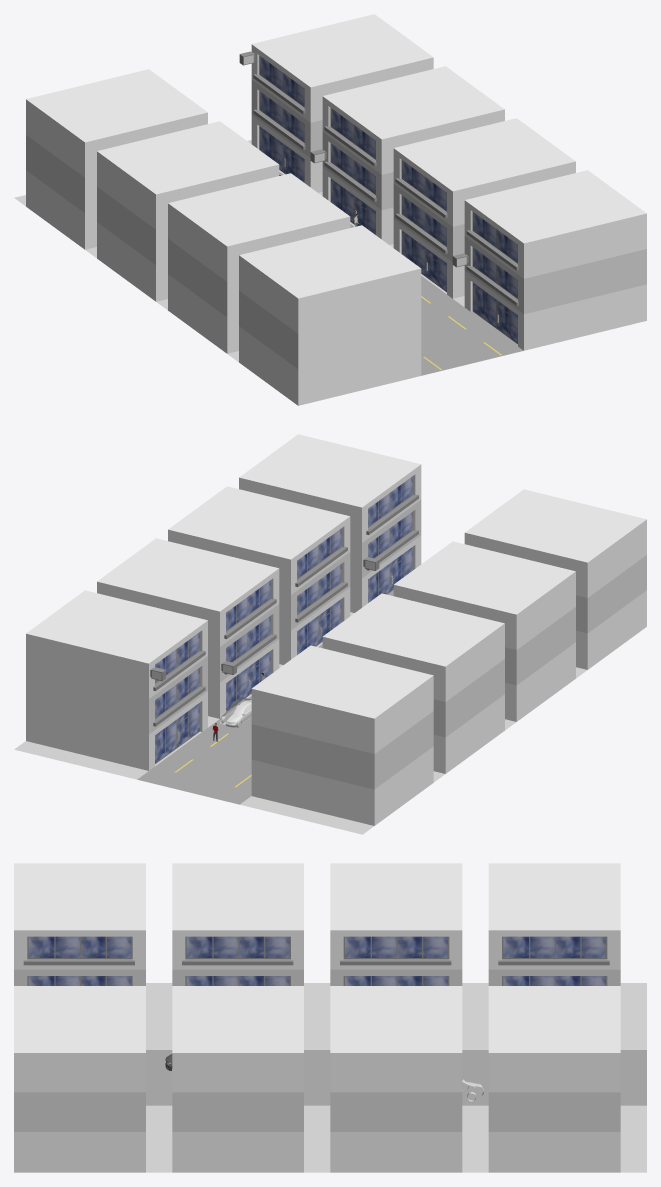
3 views of the same model, one above another, from view 1: azimuth 30°, elevation 25°; view 2: azimuth 150°, elevation 25°; view 3: azimuth 270°, elevation 25° (orthographic). The views are drawn at different scales.
Visible parts, largest first — view 1: Geom3D (×5); view 2: Geom3D (×5); view 3: Geom3D (×5).
Boxes of the visible parts, box(x1,y1,x2,y2) form: Geom3D (×5): box(14, 14, 646, 405); Geom3D (×5): box(14, 434, 646, 834); Geom3D (×5): box(14, 863, 646, 1172).
Size of the model in its own units: 34 by 10.08 by 48.
68 materials, 23 textured.
